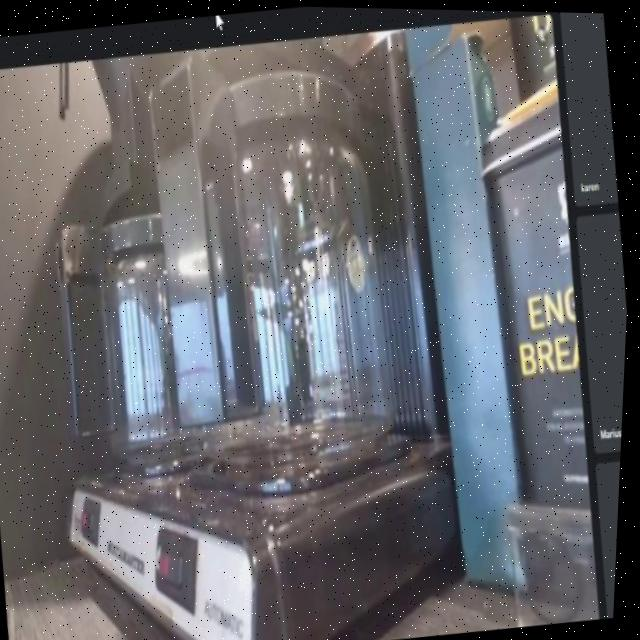nocoffee: (139, 36, 449, 507), (64, 161, 290, 514)
